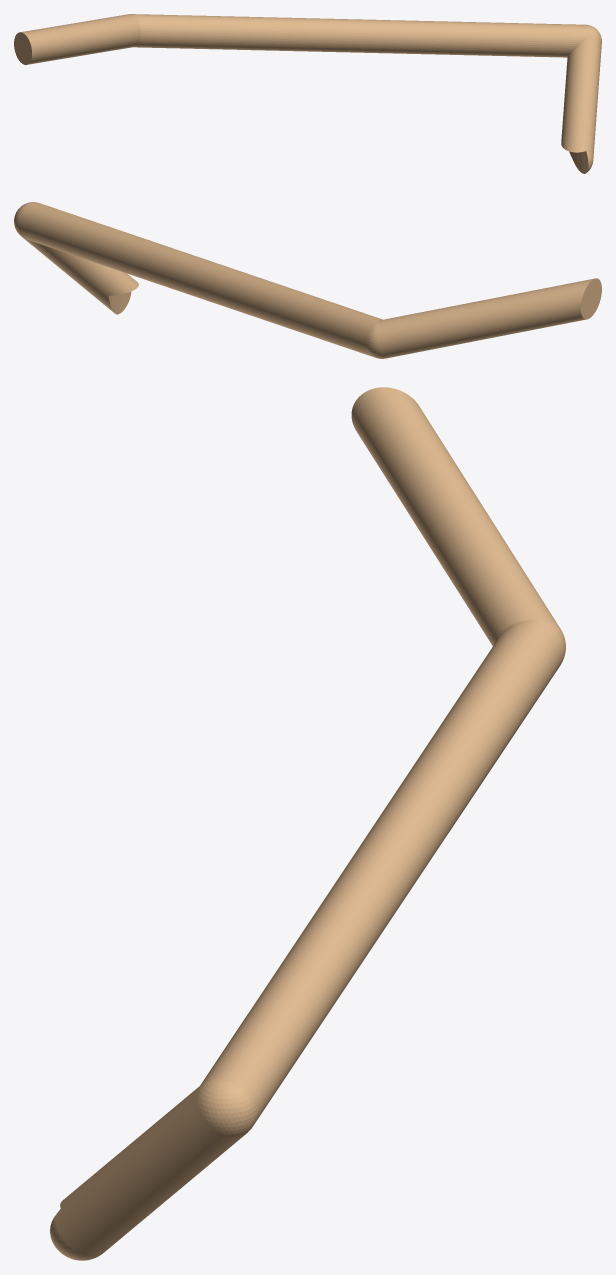
File: starter-brush-pigtail-ground-2.glb
3 views of the same model, one above another, from view 1: azimuth 30°, elevation 25°; view 2: azimuth 150°, elevation 25°; view 3: azimuth 270°, elevation 25° (orthographic). The views are drawn at different scales.
Parts seen in each view (by area): view 1: world; view 2: world; view 3: world.
Boxes of the visible parts, x1=… form: world: x1=14, y1=14, x2=601, y2=173; world: x1=14, y1=202, x2=601, y2=358; world: x1=50, y1=387, x2=565, y2=1260.
Bounding box in the file's own units: 0.0241 × 0.00867 × 0.0101.
